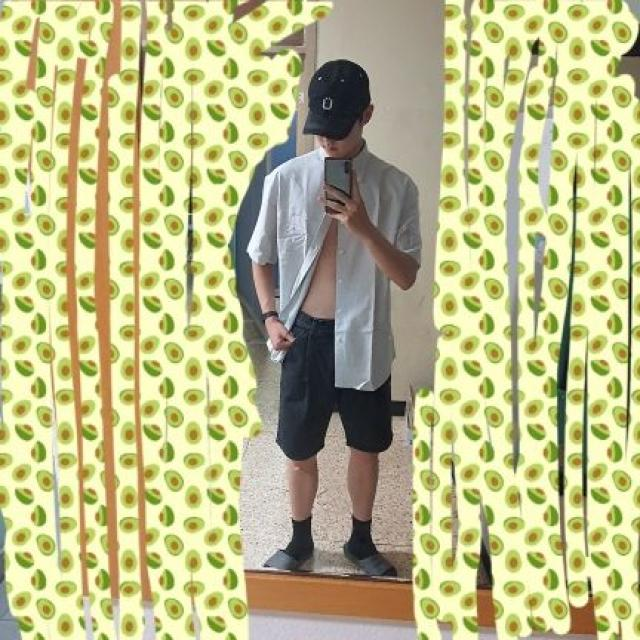shirt: (248, 147, 420, 390)
shortpants: (275, 311, 391, 462)
